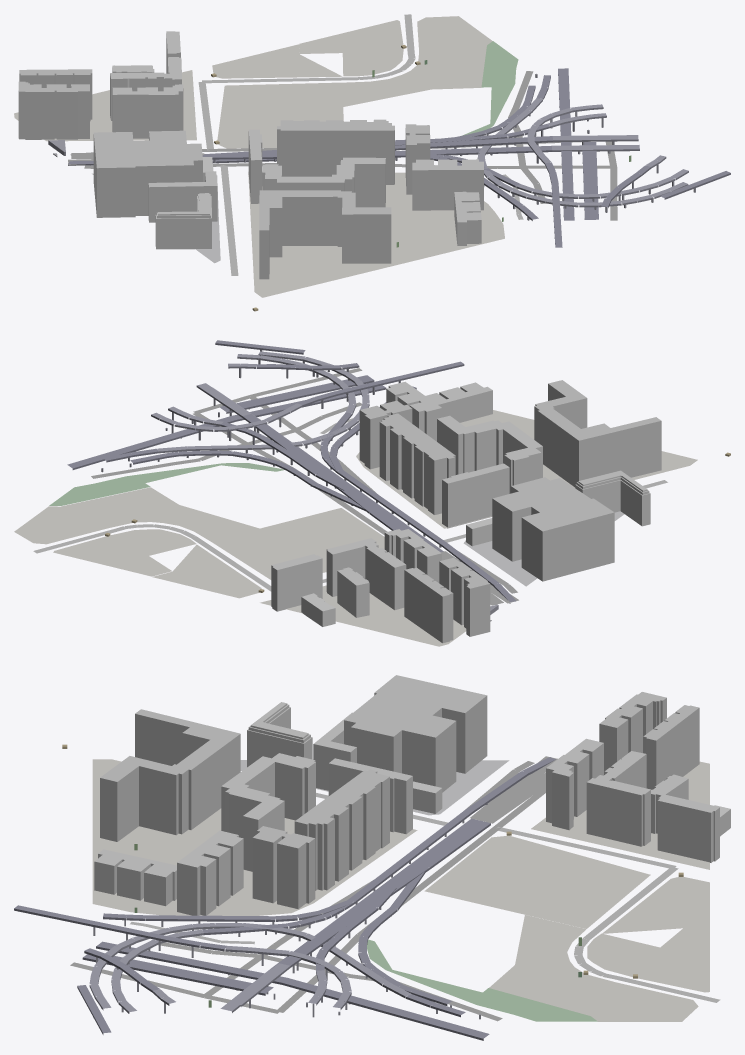
The picture shows the model from 3 angles, top to bottom: view 1: azimuth 30°, elevation 25°; view 2: azimuth 150°, elevation 25°; view 3: azimuth 270°, elevation 25°; orthographic projection. The views are drawn at different scales.
Size of the model in its own units: 588 by 69.68 by 581.
